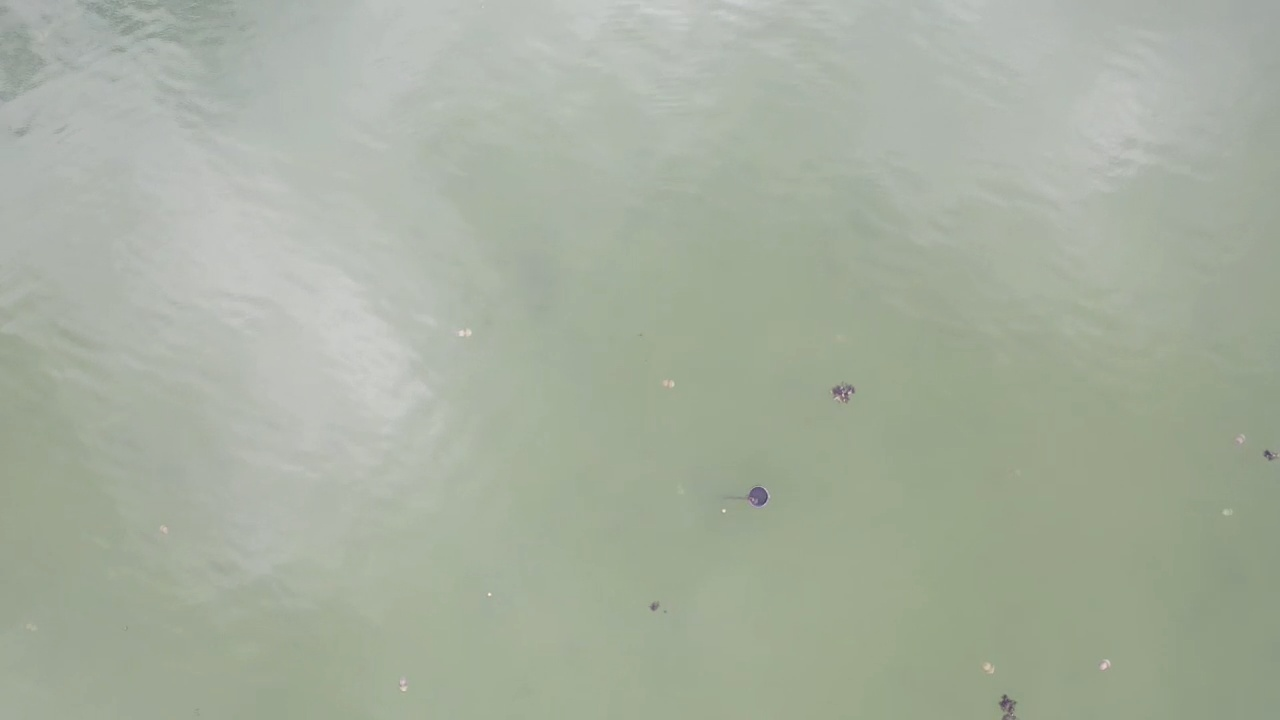meduse: (398, 680, 414, 693), (981, 663, 995, 677), (159, 525, 172, 538), (459, 327, 471, 341), (1099, 660, 1112, 672), (665, 378, 677, 390), (1223, 509, 1236, 520), (1235, 433, 1246, 445), (674, 487, 686, 497)
